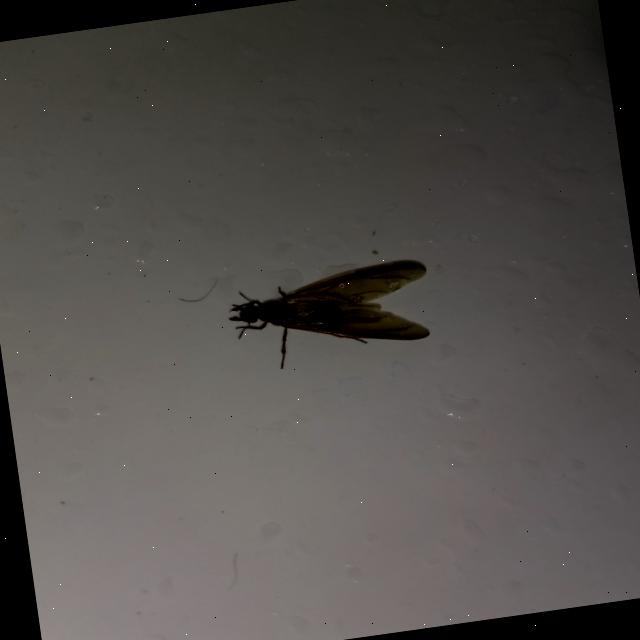Alive-Female-Alate: (225, 260, 438, 376)
